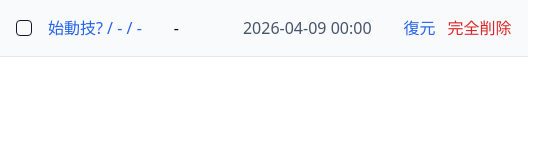
Test: TrashListRow › 復元失敗時に role=alert でエラーメッセージが表示される
Click the button "復元" at {"x": 420, "y": 28}, box [404,16,436,40]
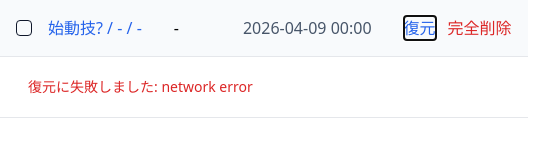
Expected: the message shows "復元に失敗しました", [28,77,253,96]
